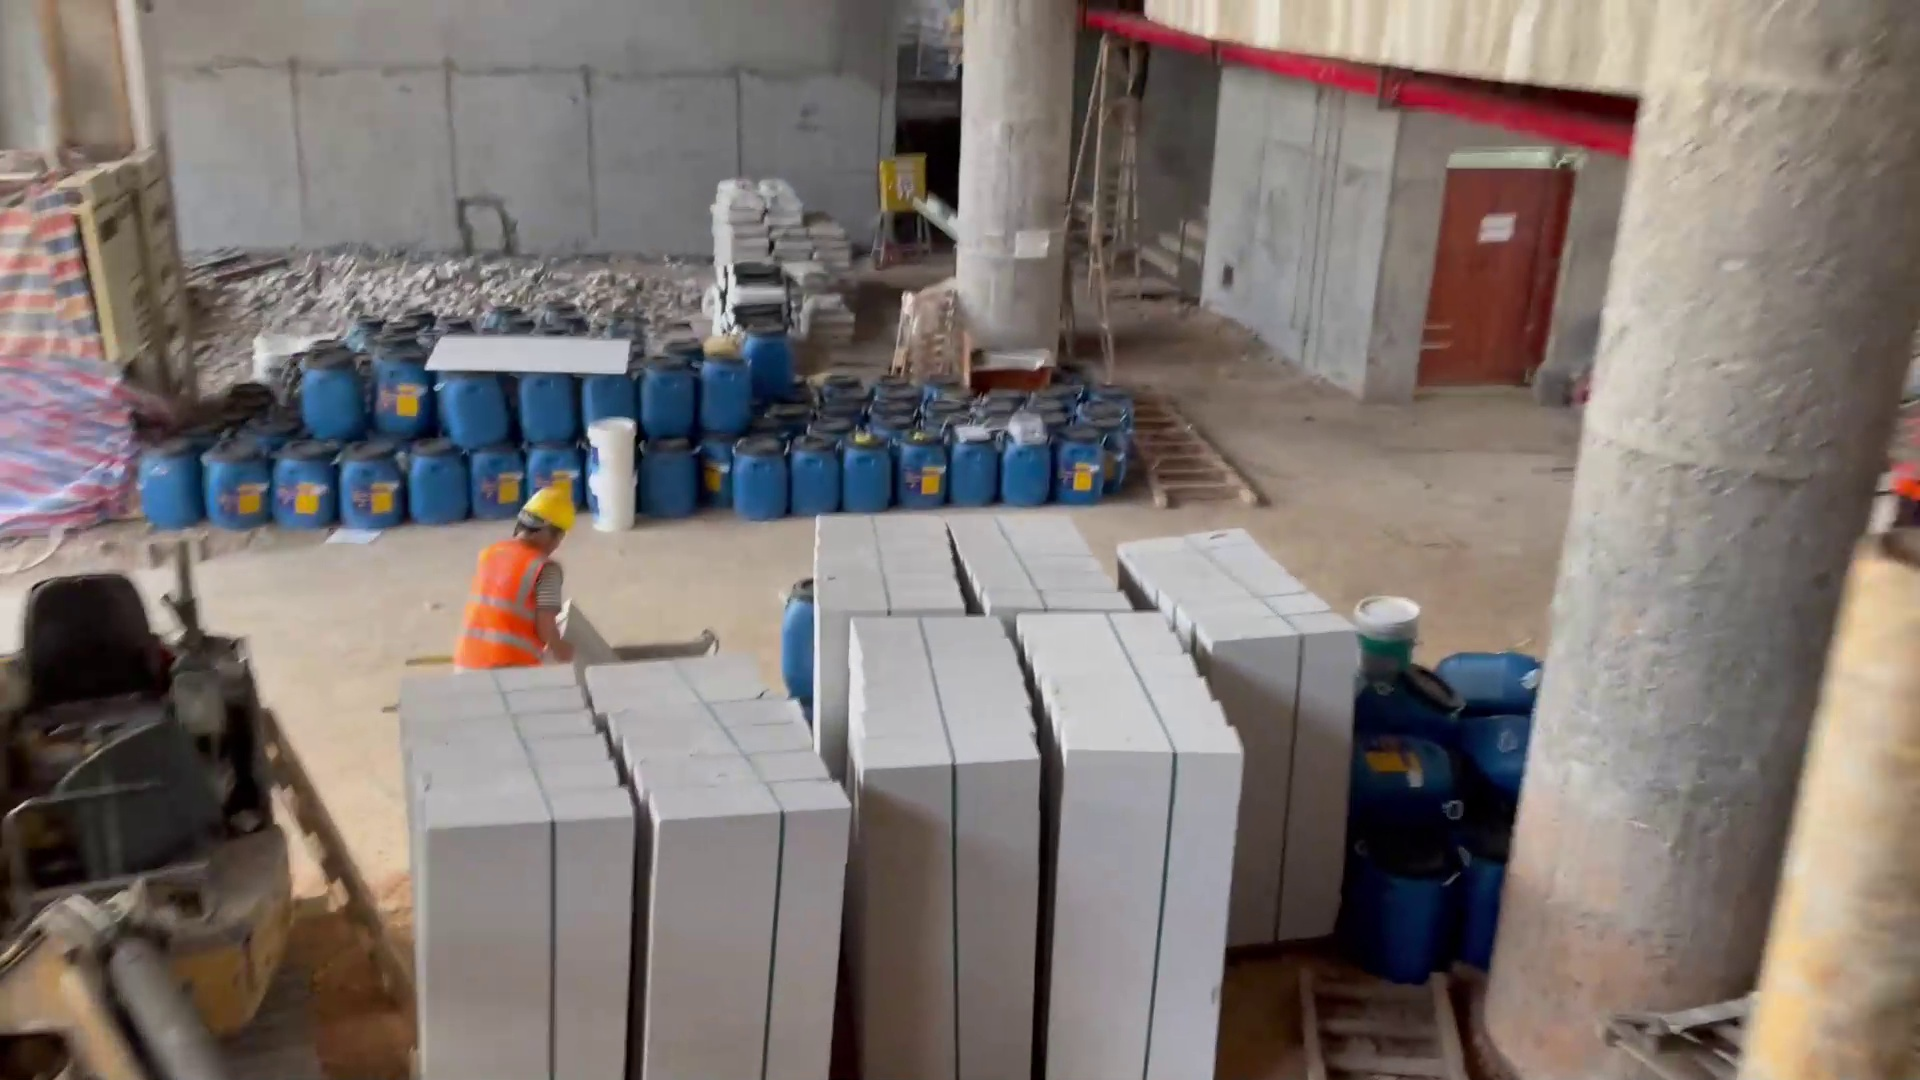brick: (809, 496, 1359, 1080), (388, 663, 864, 1080)
ebox: (869, 149, 940, 265)
helmet: (524, 477, 574, 533)
person: (450, 469, 582, 664)
vest: (467, 541, 552, 657)
